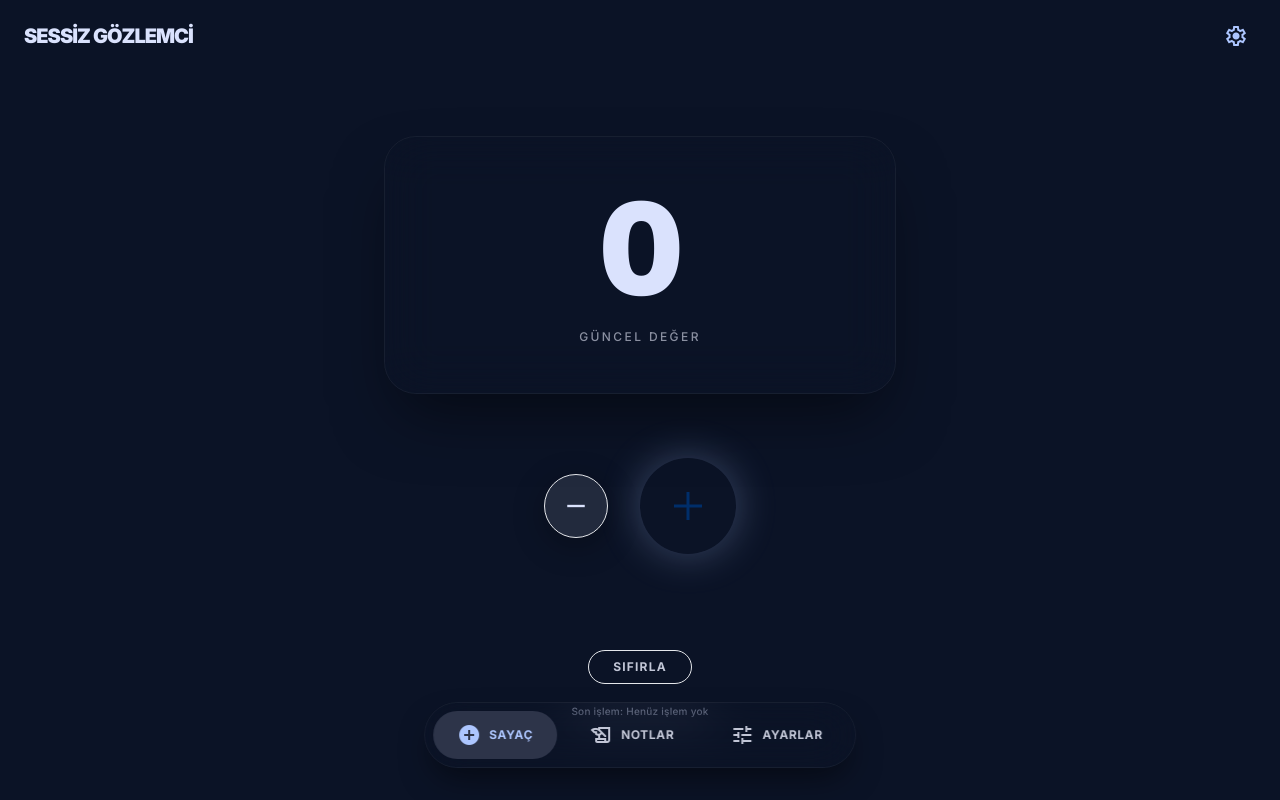
Scenario: App integration › increments counter
The width and height of the screenshot is (1280, 800).
Click the 3rd button "add": (688, 506) [640,458,736,554]
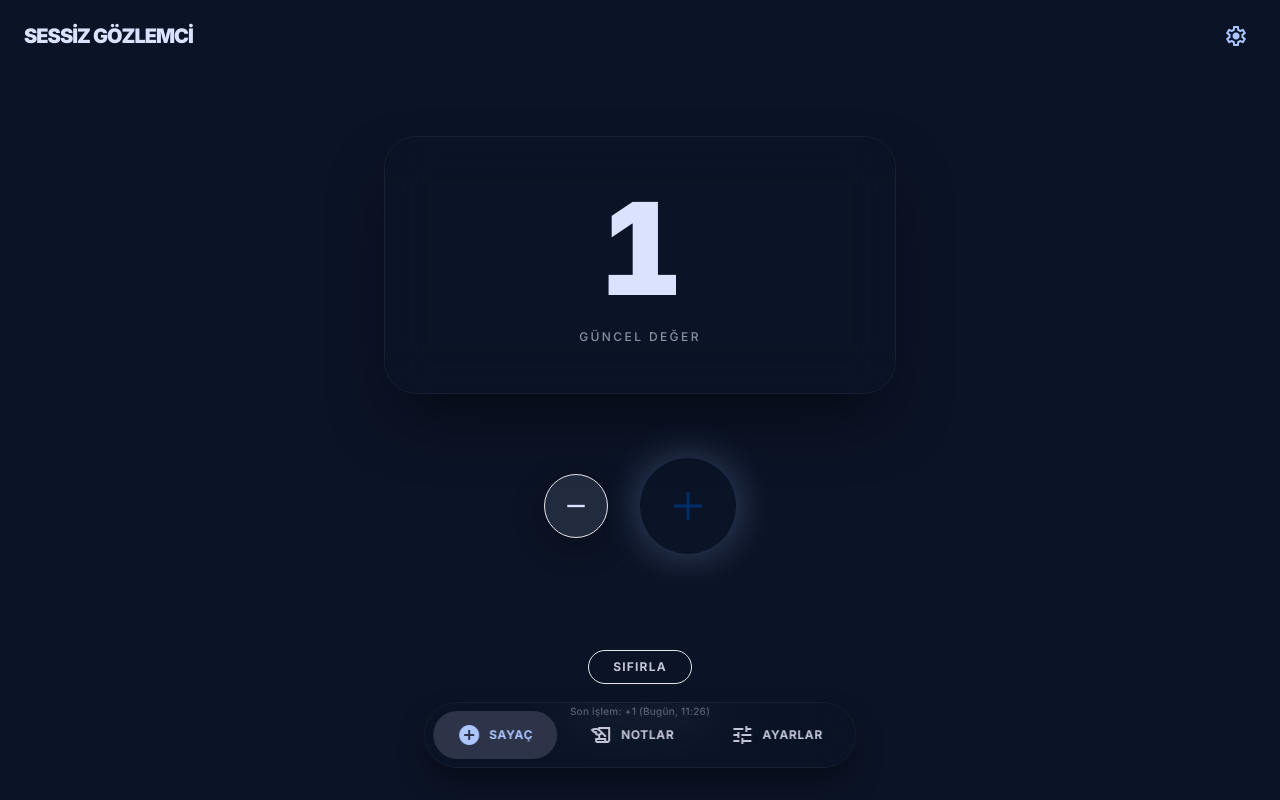
Expected: the text "1" is shown, [600,185,680,313]
